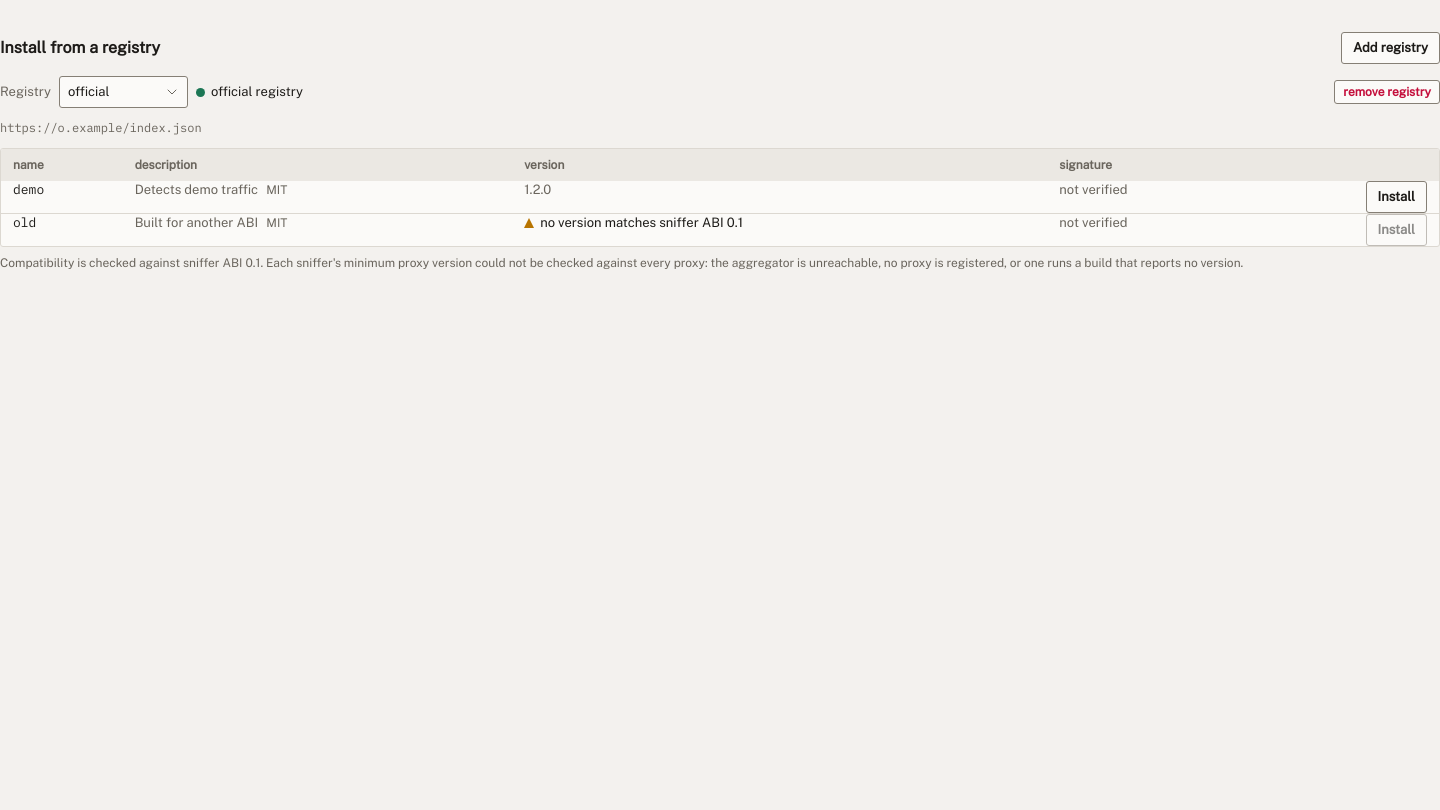
RegistrySection › an official install needs no risk confirmation
Click the button "Install" in the row of "Detects demo traffic" at (1396, 197), box top-left (1366, 181), bottom-right (1427, 213)
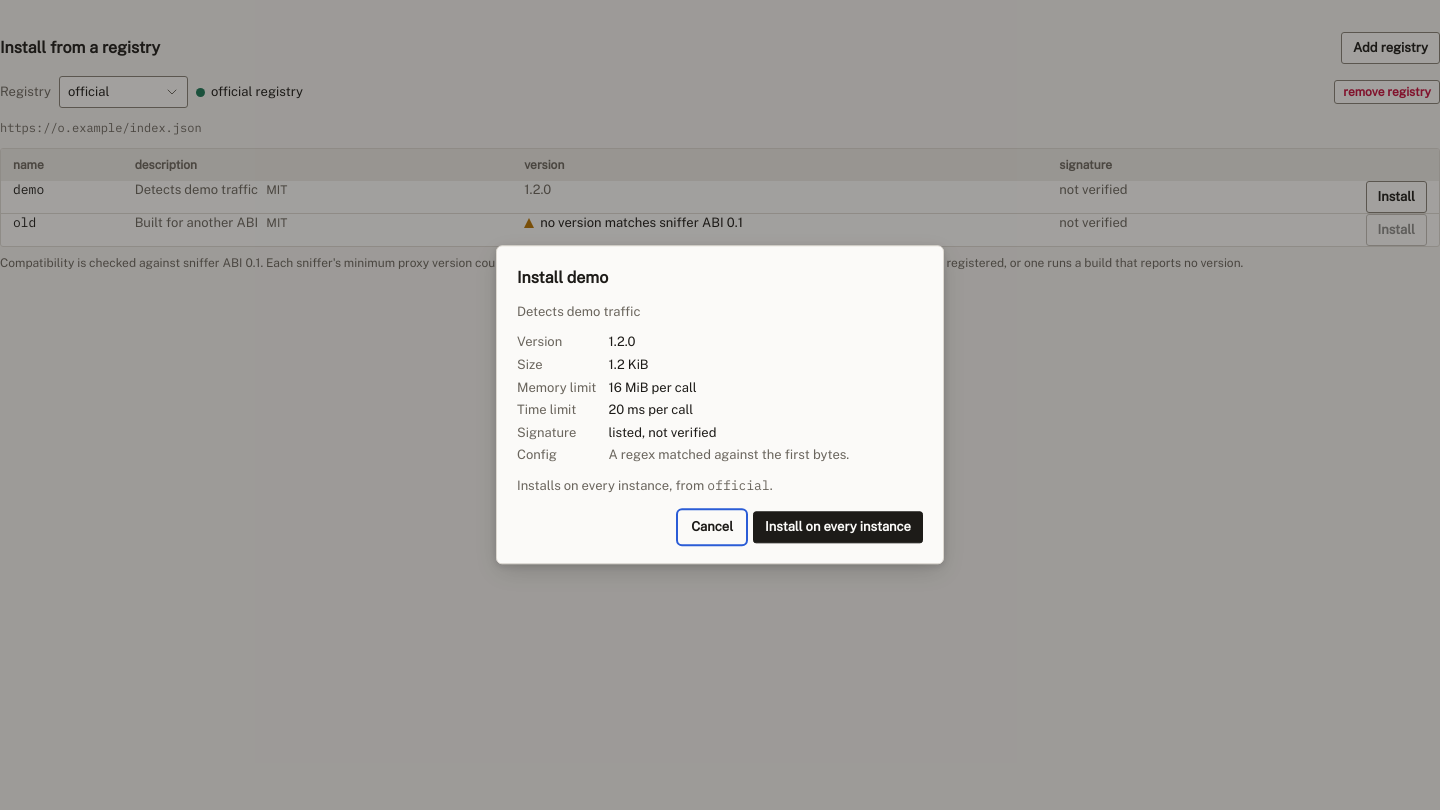
Click the button "Install on every instance" at (838, 528), box top-left (753, 512), bottom-right (923, 544)
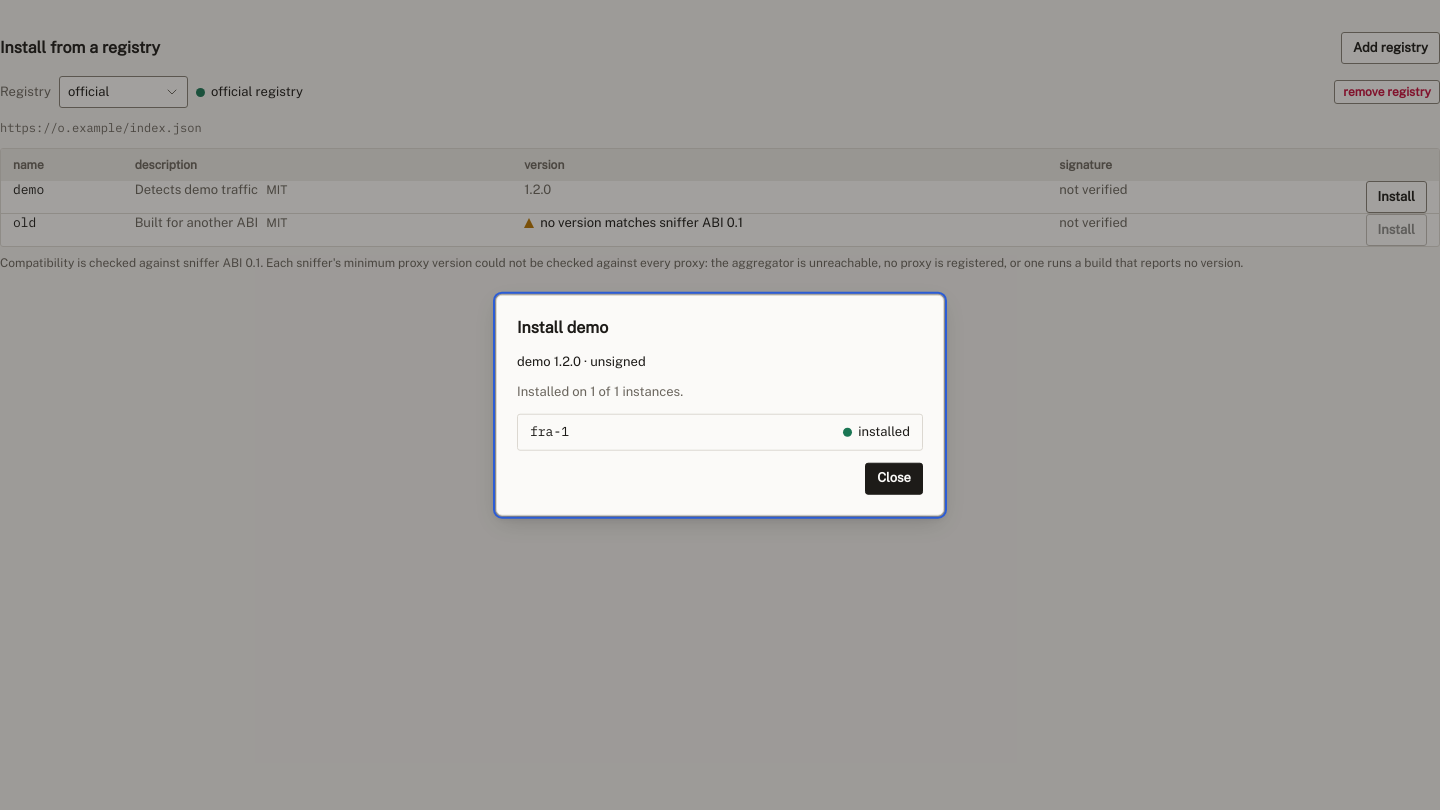
Now the text "demo 1.2.0 · unsigned" is shown, box top-left (517, 354), bottom-right (646, 369)
